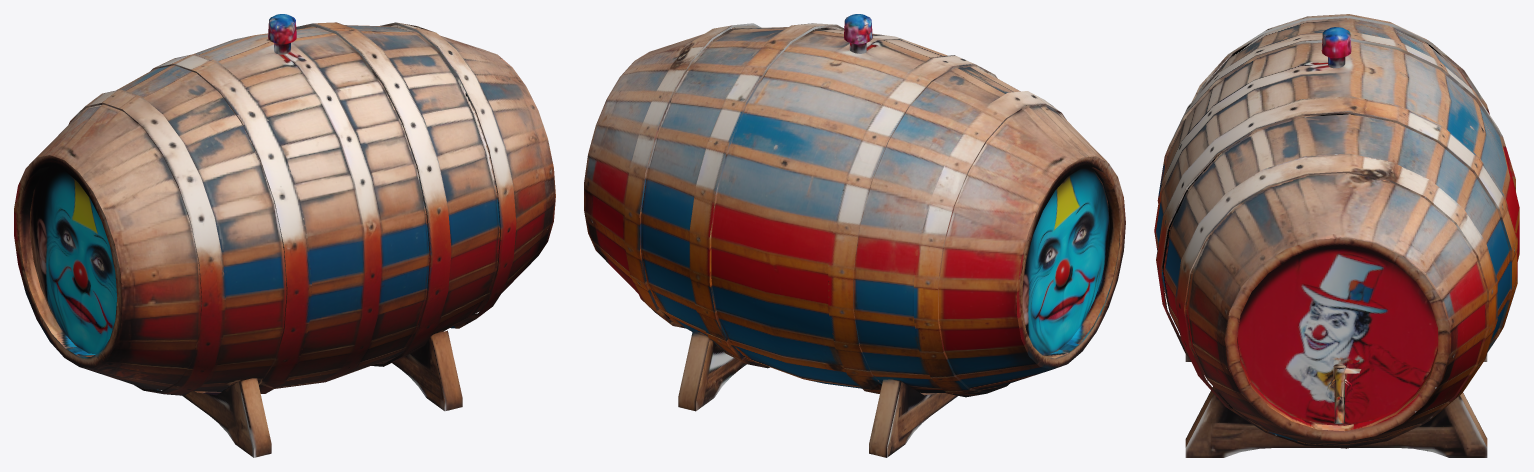
The picture shows the model from 3 angles, left to right: view 1: azimuth 30°, elevation 25°; view 2: azimuth 150°, elevation 25°; view 3: azimuth 270°, elevation 25°; orthographic projection. The views are drawn at different scales.
Visible parts, largest first — view 1: textured.002; view 2: textured.002; view 3: textured.002.
Boxes of the visible parts, bbox=[...] form: textured.002: bbox=[14, 14, 555, 457]; textured.002: bbox=[584, 14, 1125, 457]; textured.002: bbox=[1154, 14, 1519, 457].
Bounding box in the file's own units: 2 × 1.48 × 1.31.
1 material, 1 textured.
